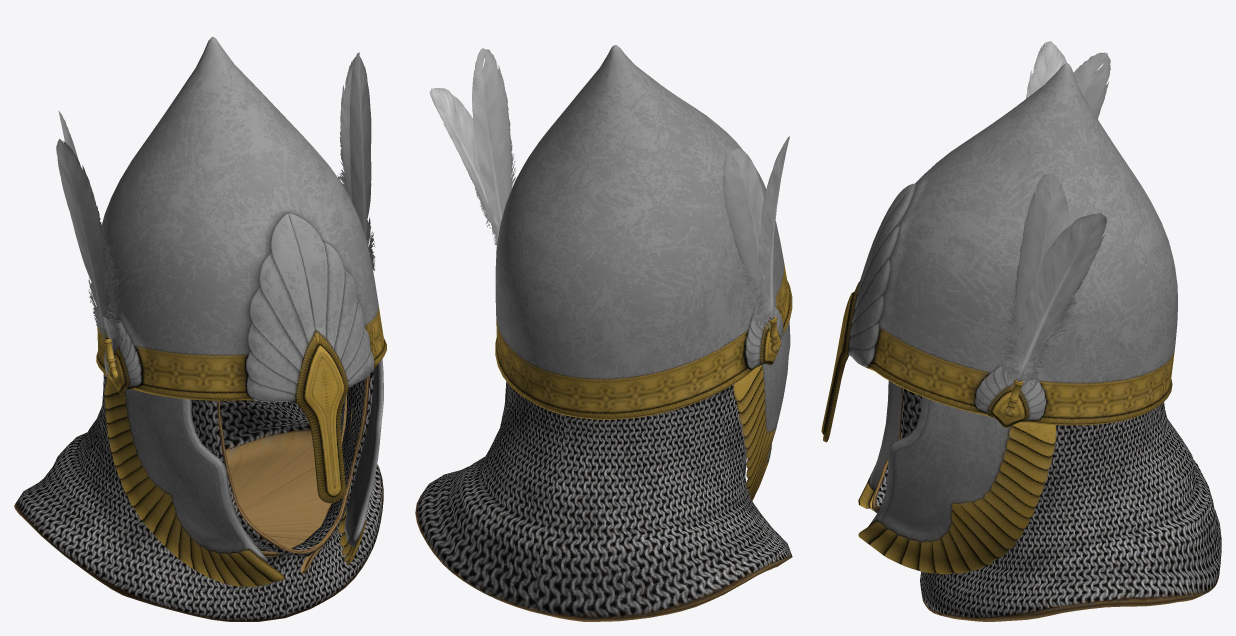
The model's file is pelargirmarine_helmet_1_a_coif_plume.fbx.
The picture shows the model from 3 angles, left to right: view 1: azimuth 30°, elevation 25°; view 2: azimuth 150°, elevation 25°; view 3: azimuth 270°, elevation 25°; orthographic projection. The views are drawn at different scales.
Visible parts, largest first — view 1: pelargirmarine_helmet_1_a_coif_plume.0, pelargirmarine_helmet_1_a_coif_plume.1; view 2: pelargirmarine_helmet_1_a_coif_plume.0, pelargirmarine_helmet_1_a_coif_plume.1; view 3: pelargirmarine_helmet_1_a_coif_plume.0, pelargirmarine_helmet_1_a_coif_plume.1.
Part boxes in pixels (left/top/right/bottom): pelargirmarine_helmet_1_a_coif_plume.0: left=14, top=37, right=386, bottom=621; pelargirmarine_helmet_1_a_coif_plume.1: left=56, top=52, right=375, bottom=380; pelargirmarine_helmet_1_a_coif_plume.0: left=415, top=45, right=792, bottom=621; pelargirmarine_helmet_1_a_coif_plume.1: left=429, top=48, right=789, bottom=353; pelargirmarine_helmet_1_a_coif_plume.0: left=821, top=63, right=1221, bottom=621; pelargirmarine_helmet_1_a_coif_plume.1: left=995, top=41, right=1110, bottom=417.
Bounding box in the file's own units: 0.2971 × 0.3079 × 0.4516.
Materials: 2 (2 with a texture image).
